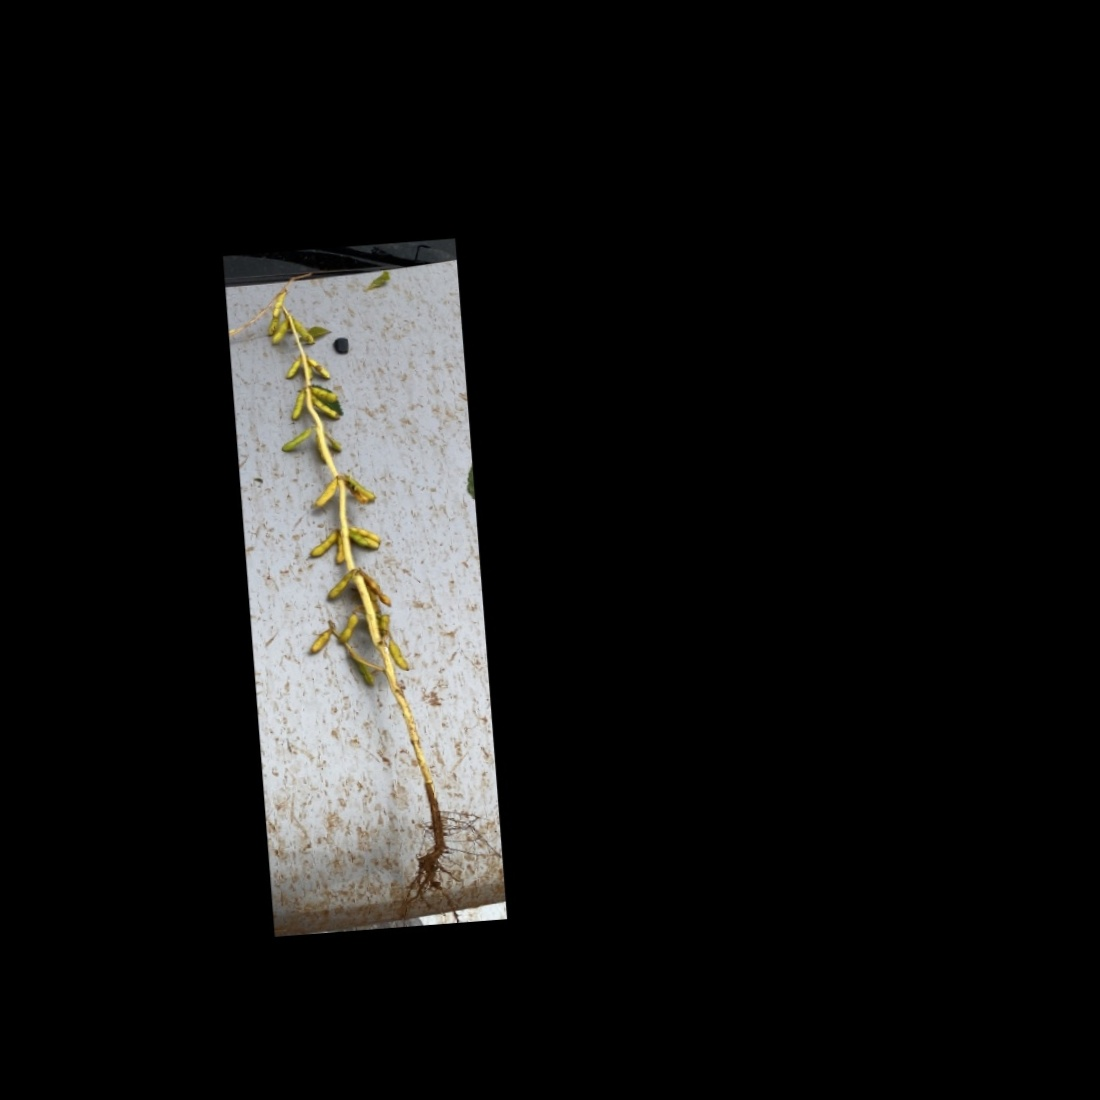pod: (274, 426, 315, 457), (299, 527, 338, 558), (320, 571, 357, 603), (310, 473, 341, 510), (367, 570, 394, 609), (387, 636, 413, 673), (303, 627, 336, 656), (335, 610, 363, 646), (352, 657, 377, 691), (285, 389, 308, 422), (322, 428, 349, 457), (293, 317, 317, 348), (269, 317, 291, 349), (281, 358, 303, 381)
soy: (238, 273, 483, 915)
